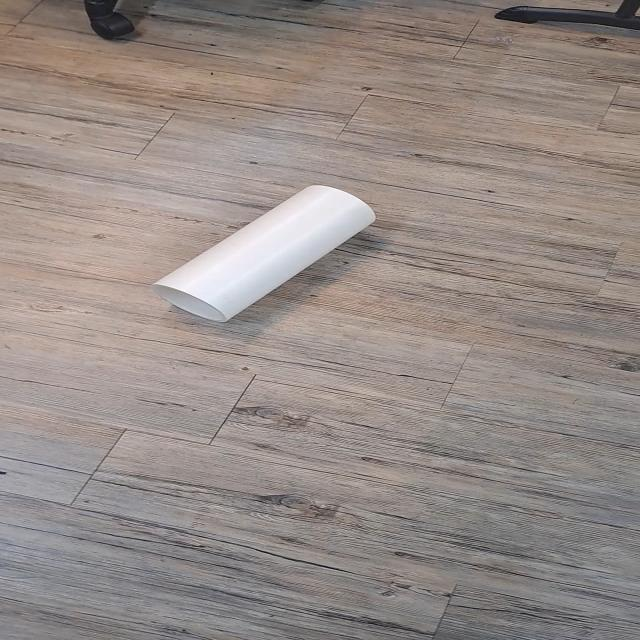CORAL: (149, 174, 388, 334)
